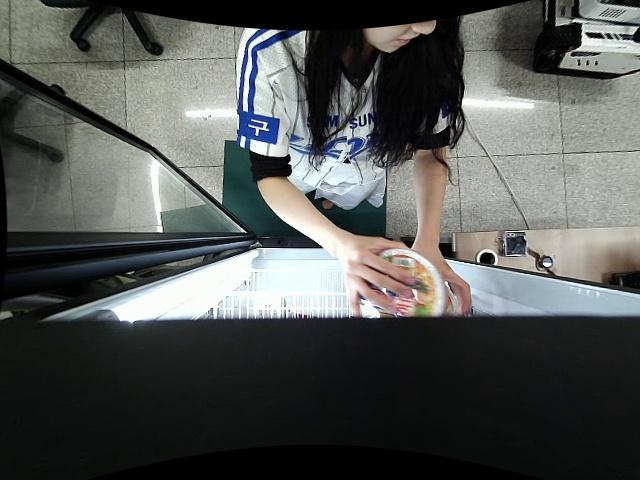00_hand: (325, 234, 417, 313), (409, 237, 475, 319)
09_yukGaeJang: (356, 247, 445, 316)
